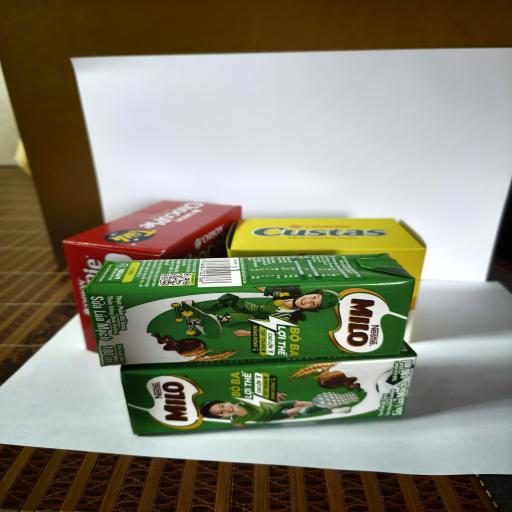chocopie: (62, 200, 242, 354)
custas: (226, 218, 427, 311)
milo: (83, 253, 416, 367), (120, 344, 417, 436)
